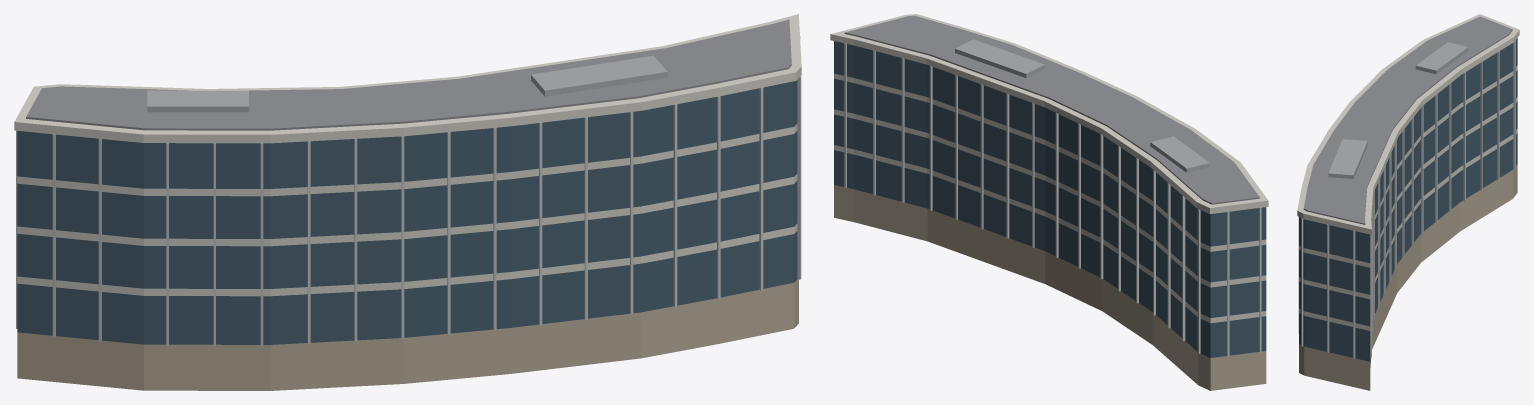
File: hotel_building_w463856_w463856739.glb
3 renders of one model, left to right at view 1: azimuth 30°, elevation 25°; view 2: azimuth 150°, elevation 25°; view 3: azimuth 270°, elevation 25°, orthographic. The views are drawn at different scales.
Visible parts, largest first — view 1: ResortWing; view 2: ResortWing; view 3: ResortWing.
Part boxes in pixels (box(x1,y1,x2,y2)): ResortWing: box(14, 14, 801, 390); ResortWing: box(830, 14, 1268, 390); ResortWing: box(1297, 14, 1519, 390).
Bounding box in the file's own units: 111 × 40.3 × 48.45.
